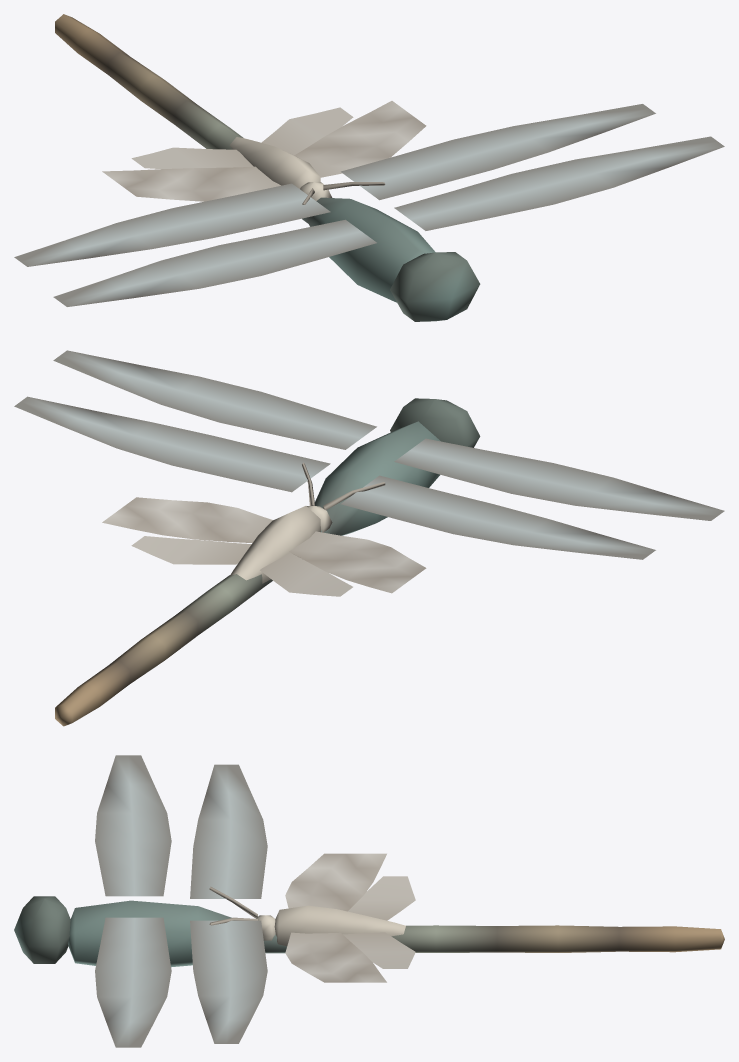
The model's file is insect.glb.
3 views of the same model, one above another, from view 1: azimuth 30°, elevation 25°; view 2: azimuth 150°, elevation 25°; view 3: azimuth 270°, elevation 25° (orthographic). The views are drawn at different scales.
Parts seen in each view (by area): view 1: insect_dragonfly, insect_moth; view 2: insect_dragonfly, insect_moth; view 3: insect_dragonfly, insect_moth.
Boxes of the visible parts, left/top/right/bottom form: insect_dragonfly: left=14, top=14, right=724, bottom=321; insect_moth: left=102, top=101, right=426, bottom=204; insect_dragonfly: left=14, top=350, right=724, bottom=726; insect_moth: left=102, top=462, right=426, bottom=596; insect_dragonfly: left=14, top=755, right=724, bottom=1047; insect_moth: left=209, top=853, right=415, bottom=982.
Size of the model in its own units: 0.068 by 0.0078 by 0.0699.
